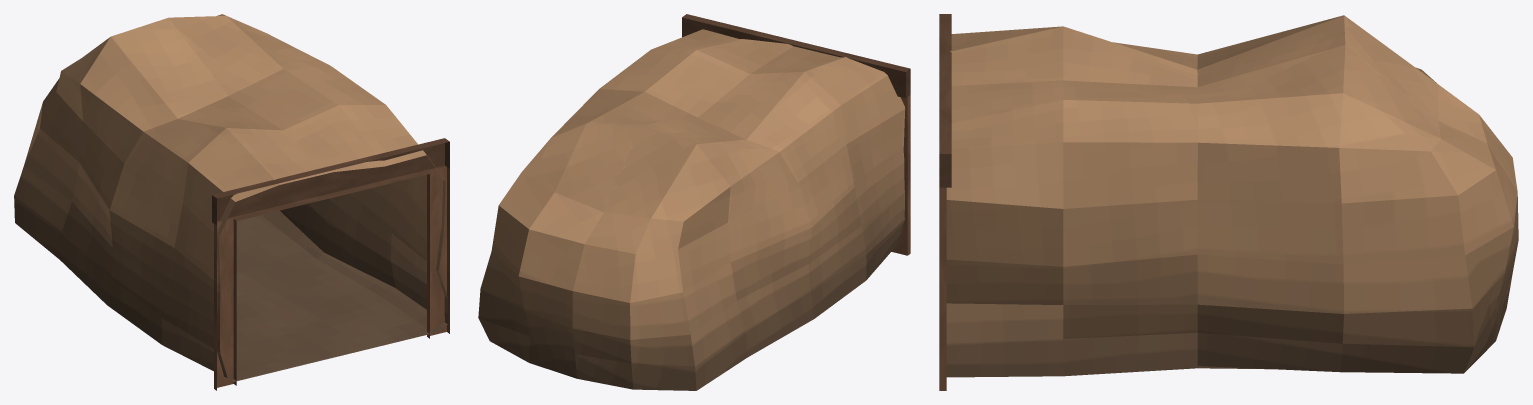
The model's file is SM_Deadend.fbx.
3 renders of one model, left to right at view 1: azimuth 30°, elevation 25°; view 2: azimuth 150°, elevation 25°; view 3: azimuth 270°, elevation 25°, orthographic. The views are drawn at different scales.
Parts seen in each view (by area): view 1: Deadend, Deadend.002, Deadend.001, Support -y; view 2: Deadend, Deadend.002, Support -y; view 3: Deadend, Deadend.002, Support -y.
Part boxes in pixels (x1,y1,x2,y2): Deadend: [14, 71, 447, 377]; Deadend.002: [61, 14, 426, 201]; Deadend.001: [202, 210, 447, 381]; Support -y: [212, 138, 449, 390]; Deadend: [478, 75, 905, 390]; Deadend.002: [522, 29, 887, 221]; Support -y: [682, 14, 910, 255]; Deadend: [946, 84, 1518, 377]; Deadend.002: [950, 15, 1441, 151]; Support -y: [939, 14, 951, 390].
Size of the model in its own units: 438 by 373 by 710.
